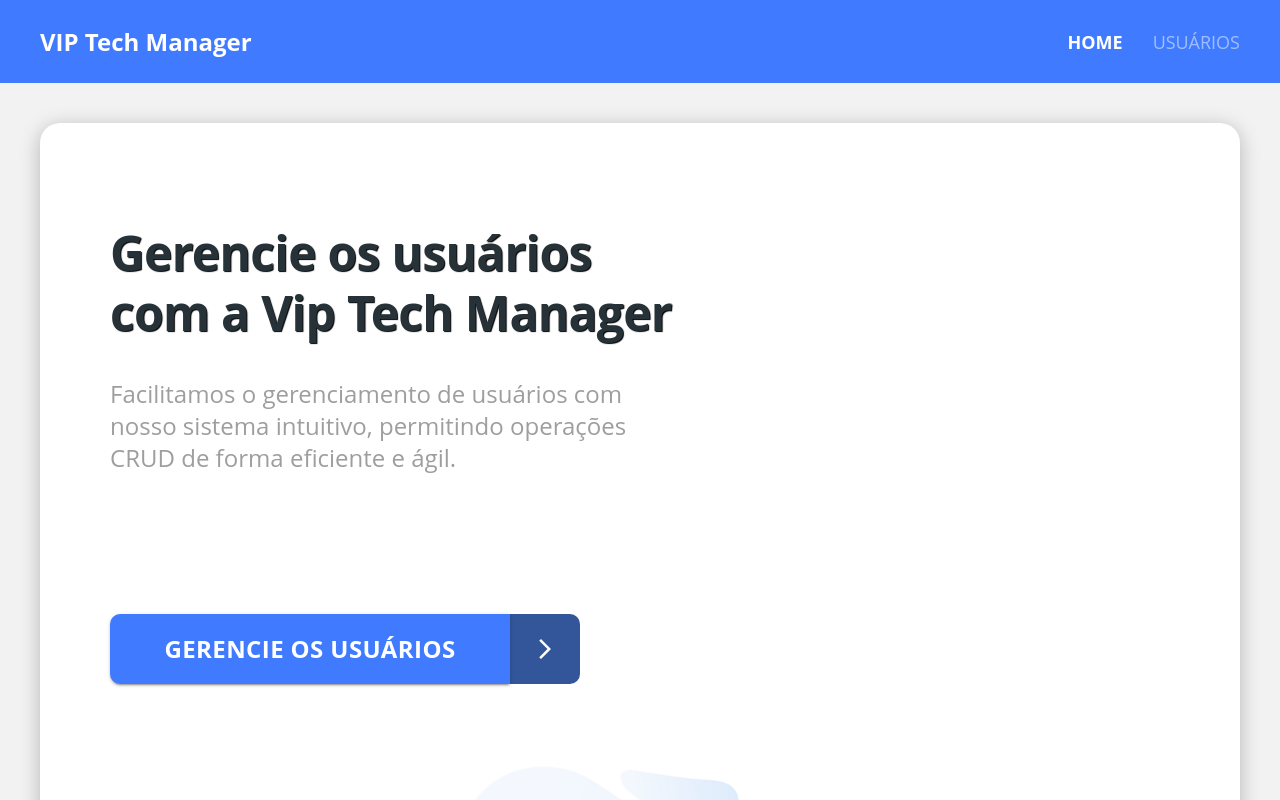
Test: User list flow › Should list a user
The width and height of the screenshot is (1280, 800).
Step 1. Click the button "Gerencie os usuários" → click(310, 649), box left=110, top=614, right=510, bottom=684
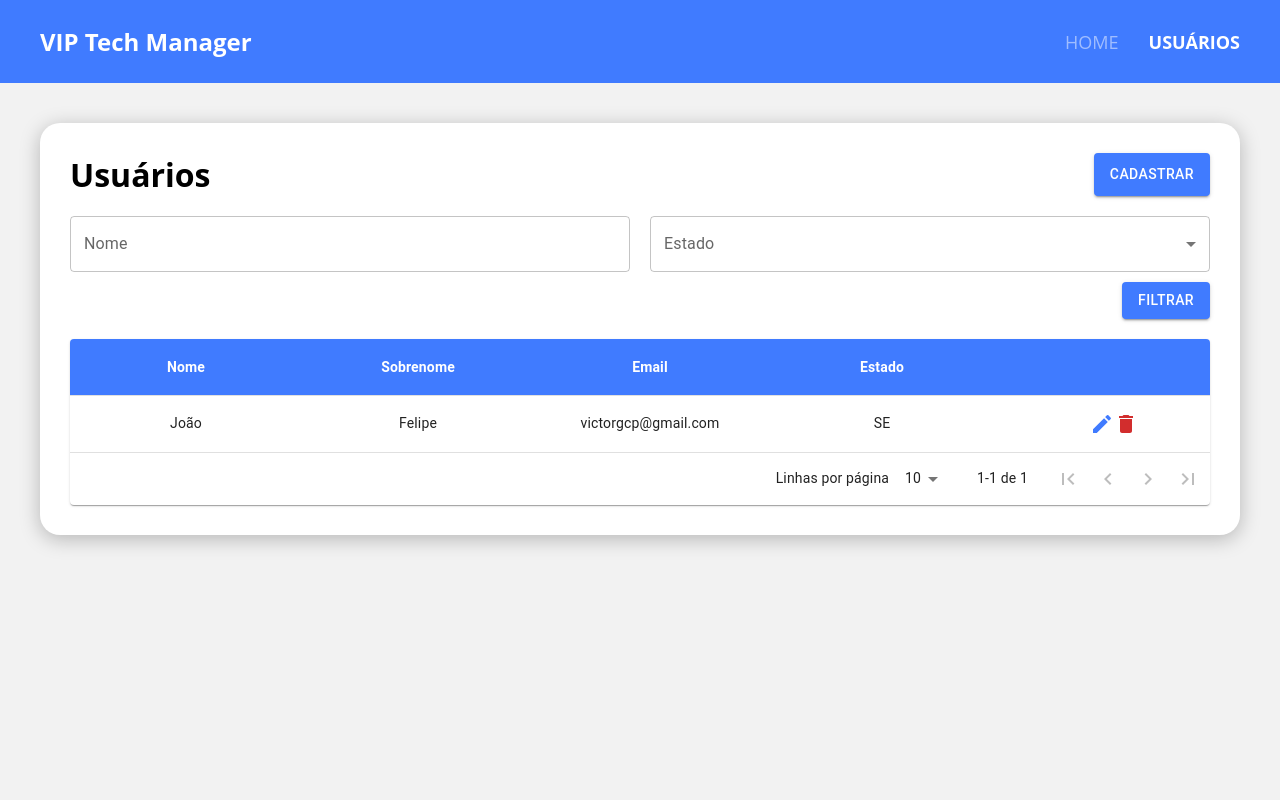
Now the column heading "Nome" is shown, box left=70, top=338, right=302, bottom=396
Now the column heading "Sobrenome" is shown, box left=302, top=338, right=534, bottom=396
Now the column heading "Email" is shown, box left=534, top=338, right=766, bottom=396
